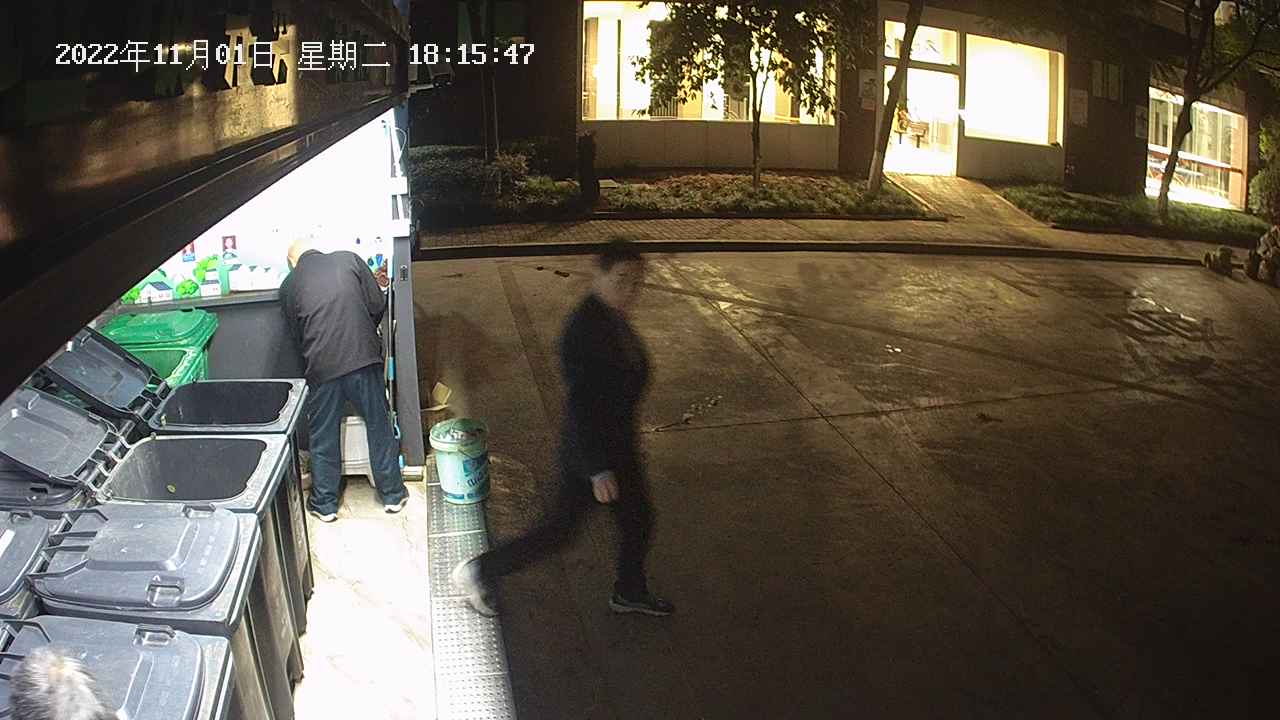person: (449, 235, 679, 621), (278, 238, 412, 524)
youtong: (428, 414, 493, 507)
